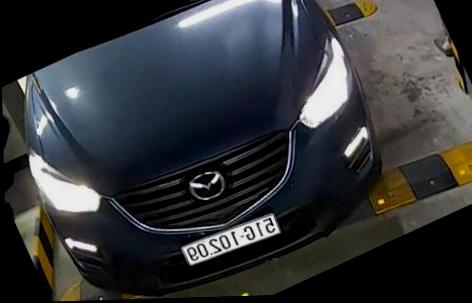License_Plate: (175, 210, 292, 270)
